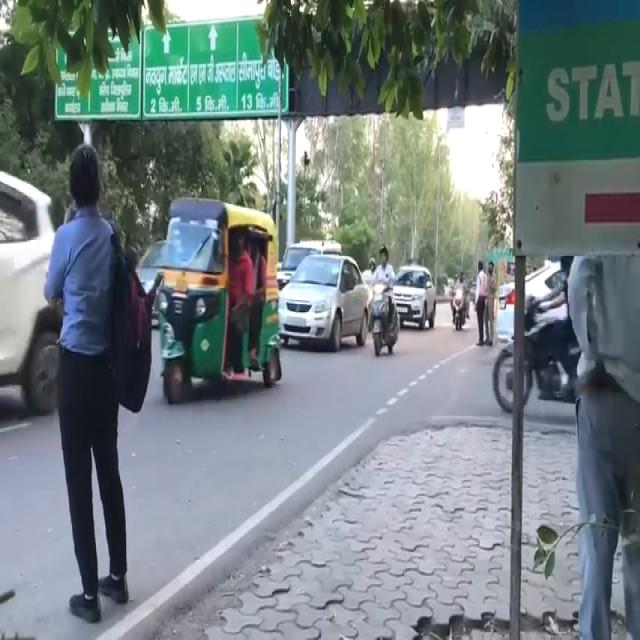MOTORCYCLE: (370, 278, 400, 352), (452, 284, 467, 330)
SED: (282, 250, 371, 350)
